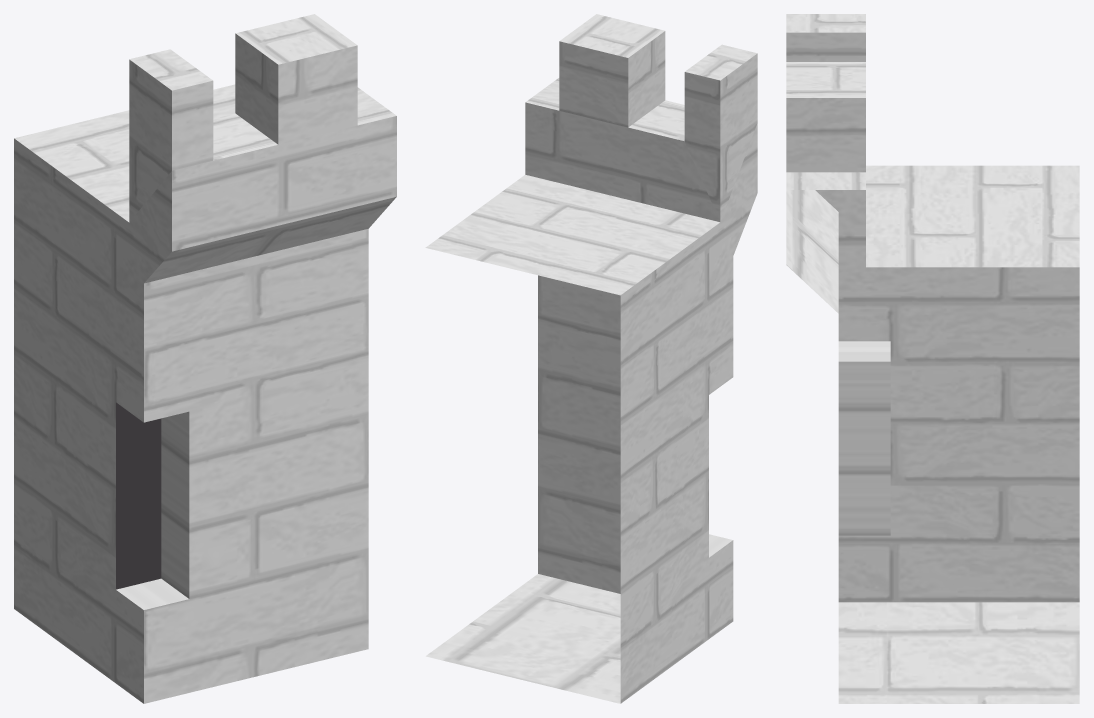
File: castle_type_u.gltf
The picture shows the model from 3 angles, left to right: view 1: azimuth 30°, elevation 25°; view 2: azimuth 150°, elevation 25°; view 3: azimuth 270°, elevation 25°; orthographic projection. The views are drawn at different scales.
Parts seen in each view (by area): view 1: Type_U; view 2: Type_U; view 3: Type_U.
Boxes of the visible parts, box(x1,y1,x2,y2) form: Type_U: box(14, 14, 396, 703); Type_U: box(425, 14, 757, 703); Type_U: box(786, 14, 1079, 703).
Size of the model in its own units: 0.5 by 1.35 by 0.6085.
2 materials, 1 textured.
